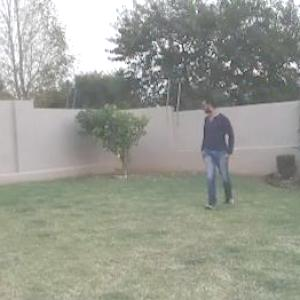follow: (193, 86, 242, 228)
